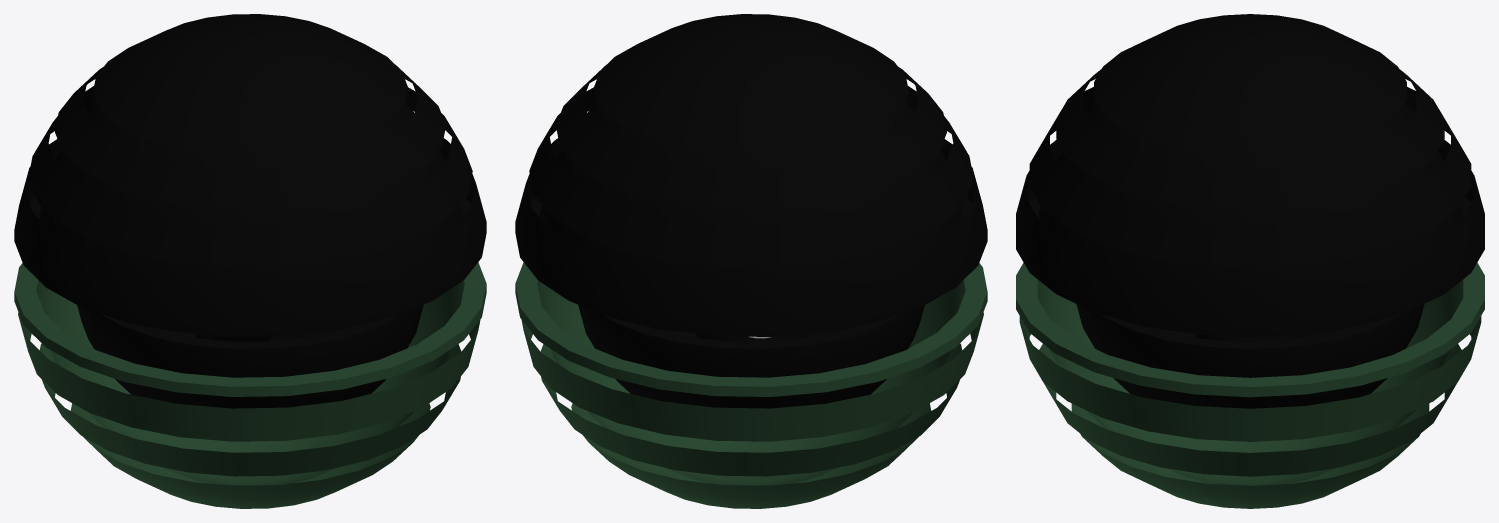
Rendered from gem-3.fbx.
3 renders of one model, left to right at view 1: azimuth 30°, elevation 25°; view 2: azimuth 150°, elevation 25°; view 3: azimuth 270°, elevation 25°, orthographic.
Visible parts, largest first — view 1: Sphère, Sphère_1, Sphère_2; view 2: Sphère, Sphère_1, Sphère_2, Sphère_3; view 3: Sphère, Sphère_1, Sphère_2, Sphère_3.
Boxes of the visible parts, <box> form: Sphère: <box>14,14,486,336</box>; Sphère_1: <box>14,262,486,508</box>; Sphère_2: <box>77,304,423,441</box>; Sphère: <box>515,14,987,336</box>; Sphère_1: <box>515,262,987,508</box>; Sphère_2: <box>578,304,924,441</box>; Sphère_3: <box>696,334,806,341</box>; Sphère: <box>1016,14,1484,337</box>; Sphère_1: <box>1016,262,1484,508</box>; Sphère_2: <box>1076,304,1424,408</box>; Sphère_3: <box>1195,334,1305,341</box>.
Size of the model in its own units: 10.94 by 11.52 by 10.86.
